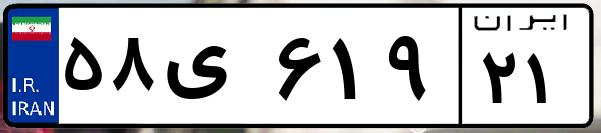1: (330, 28, 385, 110), (525, 38, 570, 115)
2: (475, 38, 525, 113)
5: (57, 26, 110, 100)
6: (270, 28, 330, 110)
8: (110, 28, 158, 98)
9: (385, 28, 445, 110)
ی: (158, 20, 270, 120)
